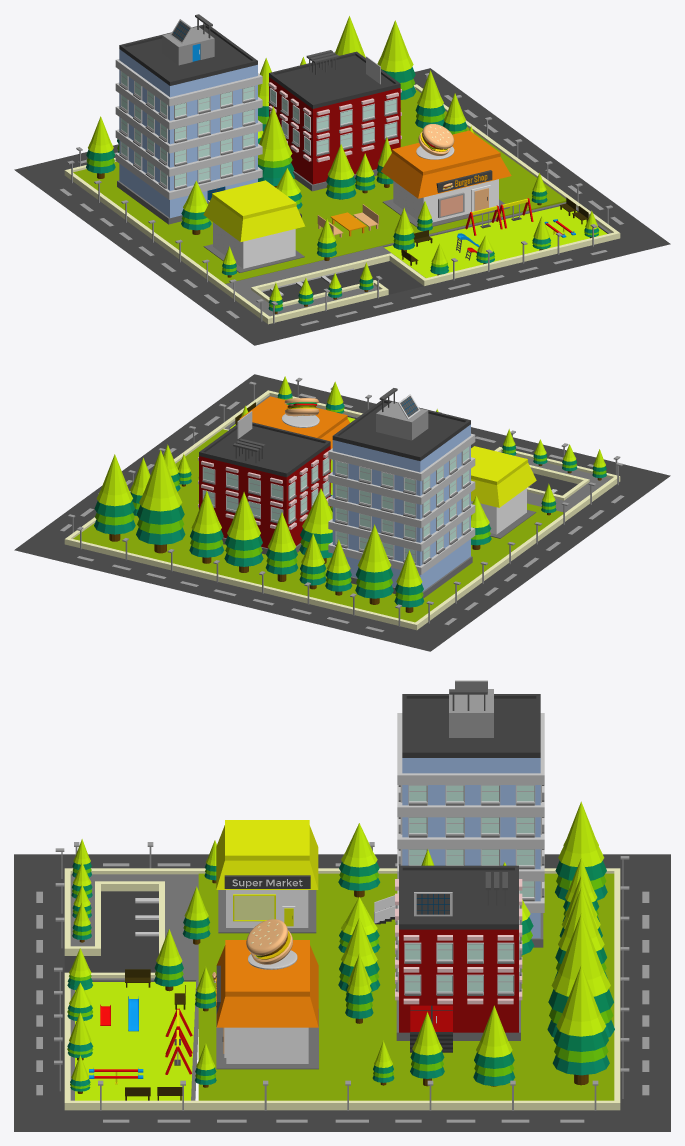
File: city.glb
The picture shows the model from 3 angles, top to bottom: view 1: azimuth 30°, elevation 25°; view 2: azimuth 150°, elevation 25°; view 3: azimuth 270°, elevation 25°; orthographic projection. The views are drawn at different scales.
Visible parts, largest first — view 1: pPlane1, Grass, Building.001, Building, pPlane2, pPlane14, pPlane10, pCube6, Super_Market_2:pCube6, Super_Market_2:pCube1, pCube1, pCube29 (+19 smaller); view 2: Building.001, Grass, pPlane1, Building, pPlane12, pPlane14, pPlane10, Super_Market_2:pCube6, pPlane2, pCube6, pCylinder11.016, pCube29 (+24 smaller); view 3: Grass, pPlane1, Building, Building.001, pPlane10, pPlane12, pPlane2, pCube6, Super_Market_2:pCube6, pCube1, pPlane14, pCube29 (+26 smaller).
Part boxes in pixels (box(x1,y1,x2,y2)): pPlane1: box(64, 84, 620, 324); Grass: box(73, 89, 566, 283); Building.001: box(117, 24, 257, 224); Building: box(269, 51, 400, 191); pPlane2: box(268, 238, 638, 337); pPlane14: box(33, 175, 267, 331); pPlane10: box(423, 82, 651, 238); pCube6: box(381, 130, 511, 198); Super_Market_2:pCube6: box(203, 180, 305, 241); Super_Market_2:pCube1: box(213, 222, 295, 268); pCube1: box(393, 179, 498, 222); pCube29: box(115, 59, 262, 106); Building.001: box(332, 399, 472, 598); Grass: box(73, 429, 563, 622); pPlane1: box(64, 390, 620, 630); Building: box(199, 422, 330, 554); pPlane12: box(46, 544, 416, 643); pPlane14: box(417, 481, 651, 637); pPlane10: box(33, 388, 261, 544); Super_Market_2:pCube6: box(471, 446, 536, 507); pPlane2: box(274, 382, 638, 480); pCube6: box(239, 396, 349, 448); pCylinder11.016: box(139, 450, 182, 511); pCube29: box(328, 433, 475, 481); Grass: box(198, 873, 614, 1100); pPlane1: box(64, 868, 620, 1110); Building: box(396, 865, 520, 1040); Building.001: box(402, 694, 543, 947); pPlane10: box(64, 1110, 620, 1131); pPlane12: box(620, 875, 670, 1110); pPlane2: box(14, 875, 64, 1110); pCube6: box(216, 940, 318, 1027); Super_Market_2:pCube6: box(216, 820, 318, 889); pCube1: box(226, 1027, 308, 1063); pPlane14: box(64, 854, 620, 868); pCube29: box(397, 713, 544, 784).
Bounding box in the file's own units: 0.4455 × 0.1831 × 0.4455.
